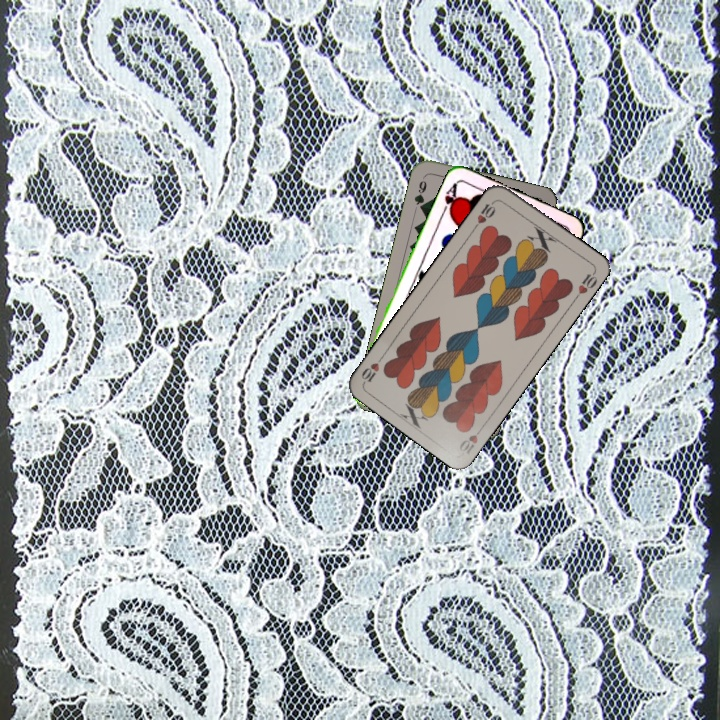G9: (410, 172, 429, 213)
H10: (454, 421, 487, 457), (470, 196, 499, 232)
HA: (438, 179, 461, 220)
